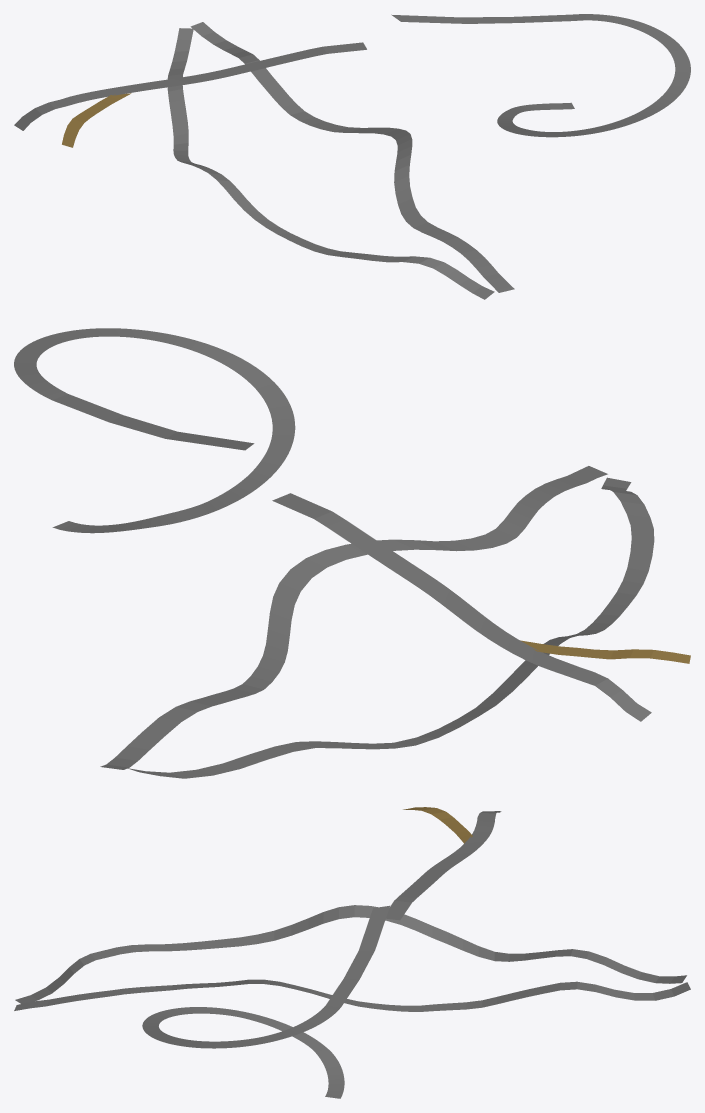
File: CollisionPath.fbx
The picture shows the model from 3 angles, top to bottom: view 1: azimuth 30°, elevation 25°; view 2: azimuth 150°, elevation 25°; view 3: azimuth 270°, elevation 25°; orthographic projection. The views are drawn at different scales.
Parts seen in each view (by area): view 1: Collision.001; view 2: Collision.001; view 3: Collision.001.
Part boxes in pixels (x1,y1,x2,y2): Collision.001: (14,14,690,299); Collision.001: (14,328,690,778); Collision.001: (14,807,690,1098).
Size of the model in its own units: 19325 by 4517 by 20051.
